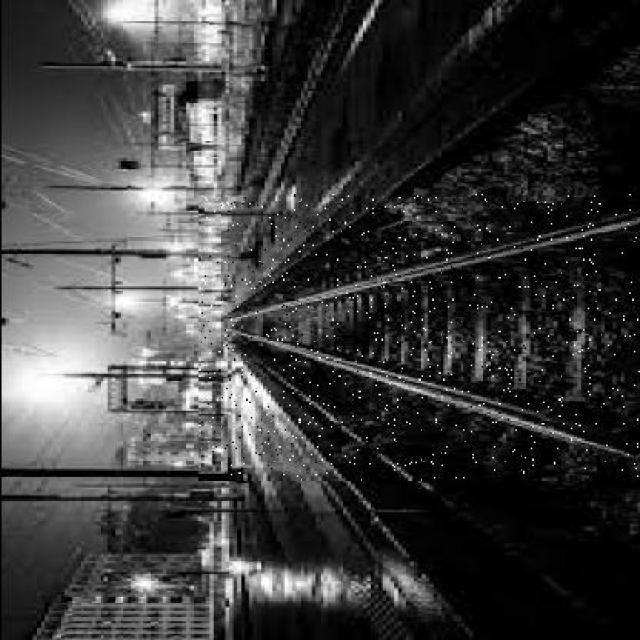rail: (199, 195, 639, 480)
